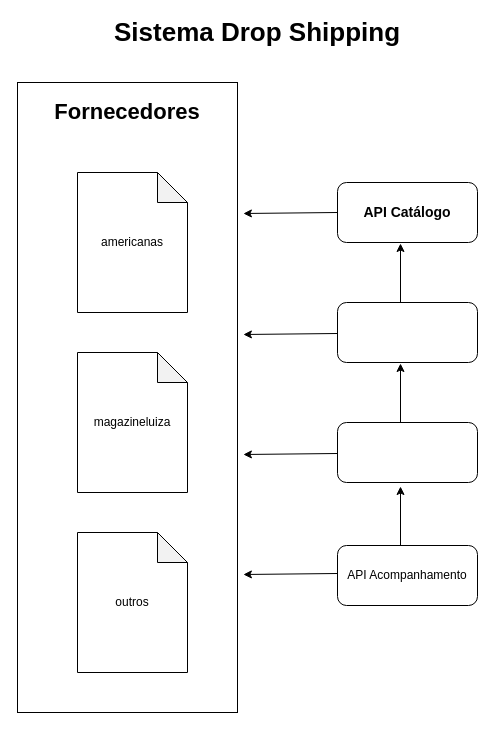
Some shapes in this 495 by 730 pixel diagram are drawn without their labels. Here are the shapes that lost their labels. From the top down, the centre of each, then its label:
At (407,332): "API Compras".
At (407,452): "API Pagamento".
